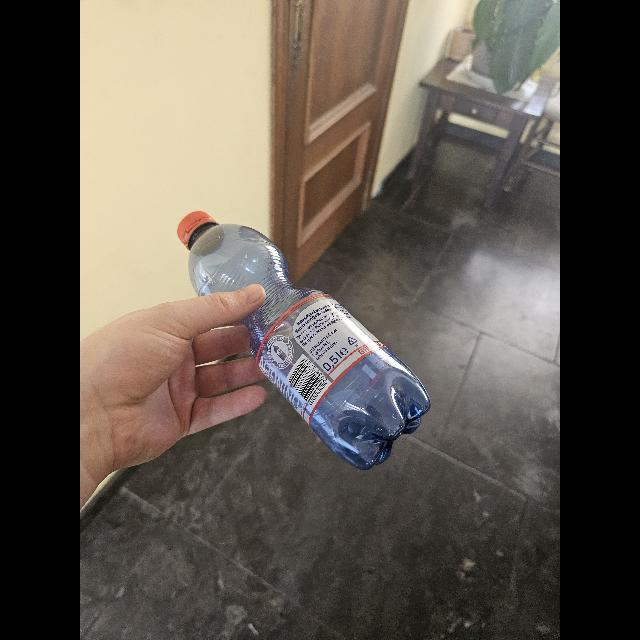Plastic: (174, 208, 430, 472)
